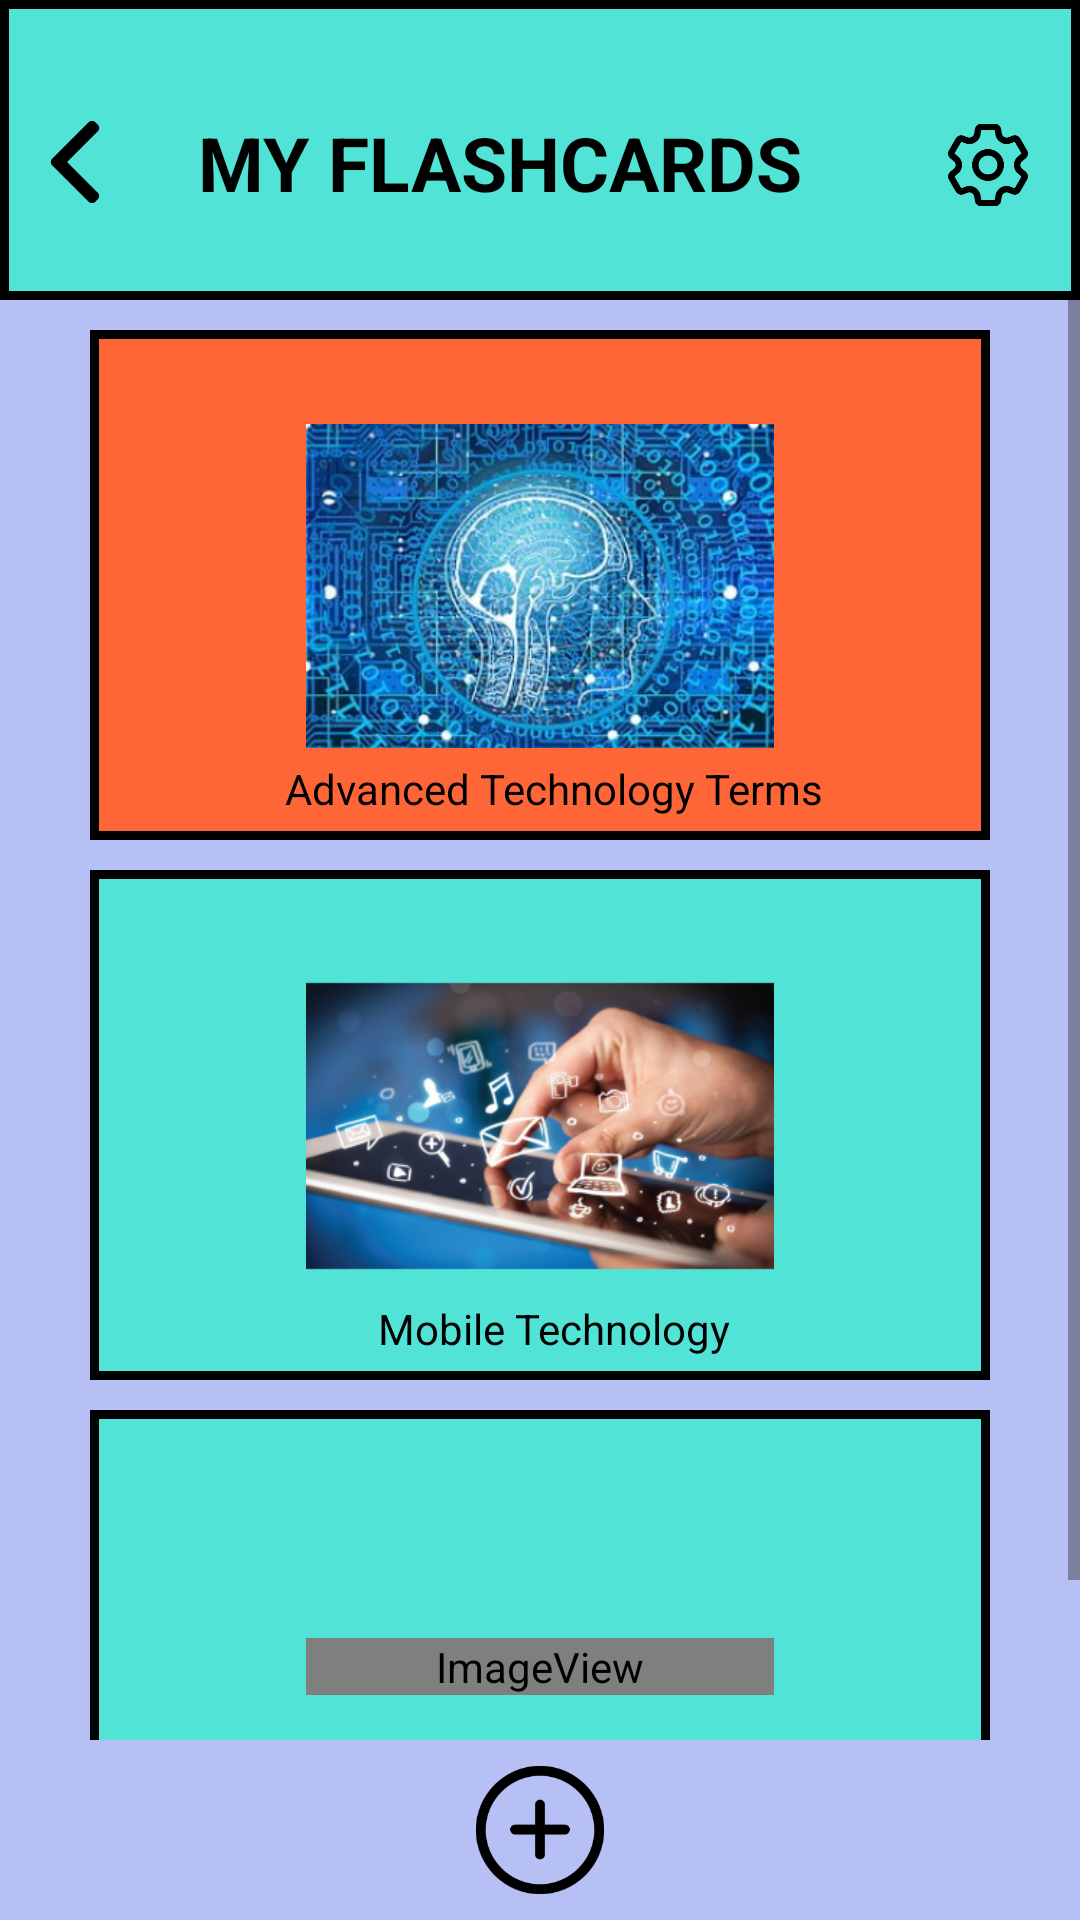

Icon click points for this 1080*1920 phone screenshot, format point (x, y):
add: point (540, 1822)
back: point (74, 162)
settings: point (988, 165)
